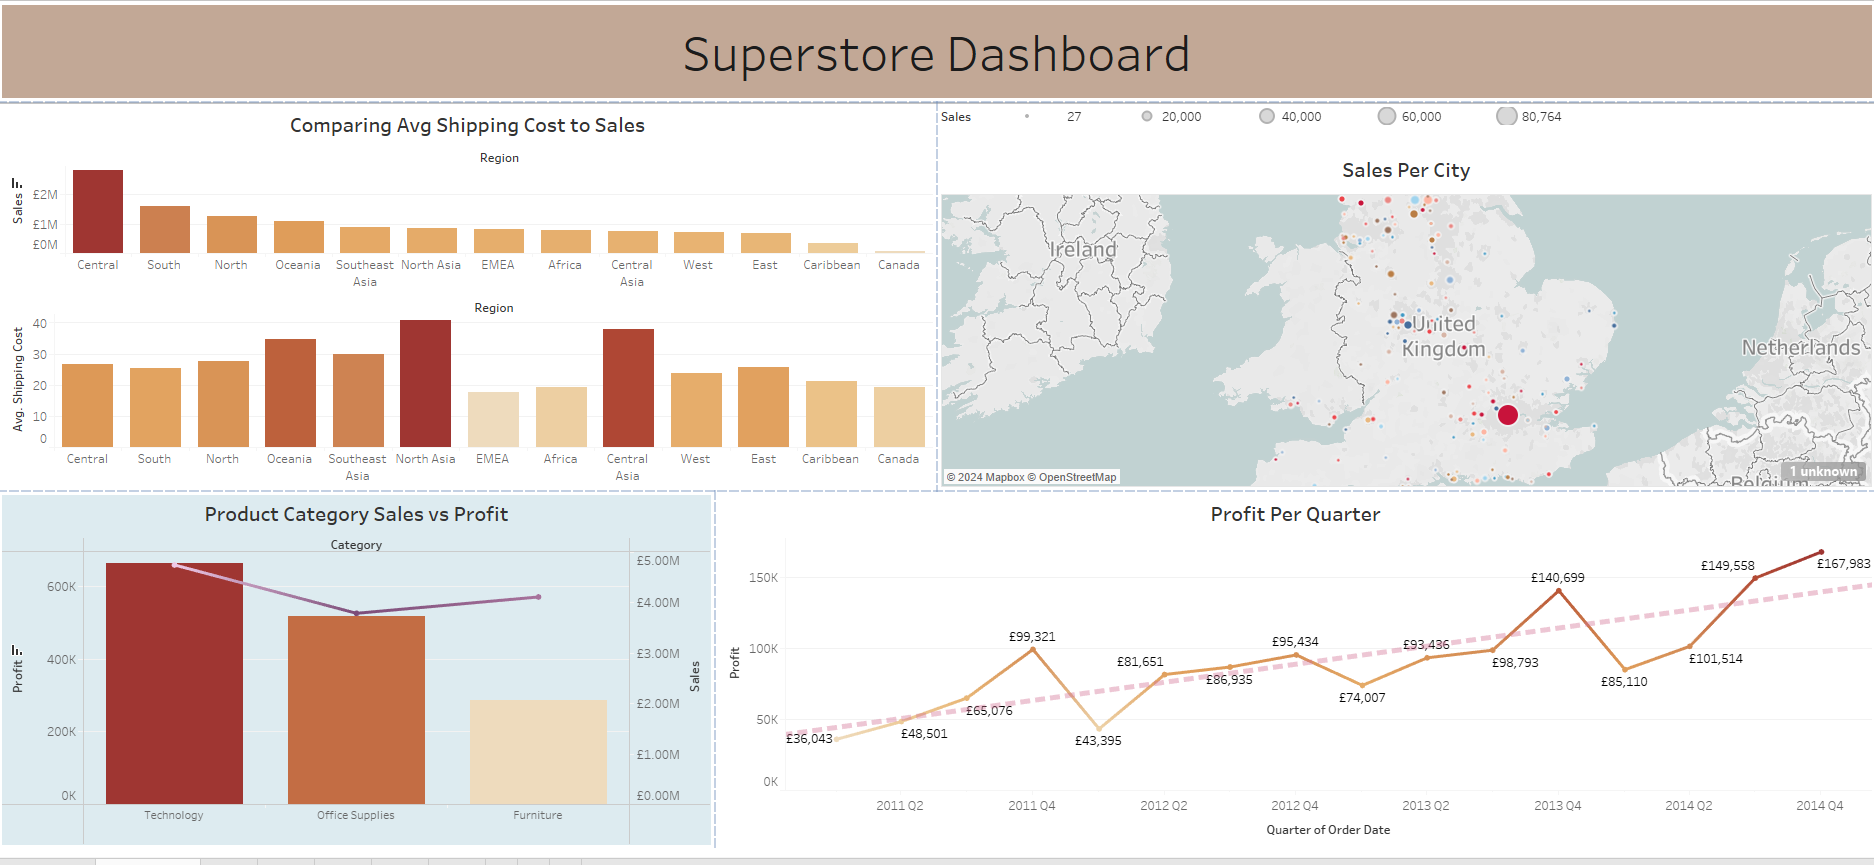

This screenshot's page, from the dashboard's own definition file:
{"tool":"tableau","page":{"name":"Dashboard 1","canvas":[1000,1000],"units":"permille","ordinal":0},"visuals":[{"type":"text","box":[4.7,9.3,990.6,116.9]},{"type":"worksheet","title":"Sheet 1","mark":"Automatic","rows":["Sales"],"cols":["Region"],"box":[4.7,126.2,495,225.7]},{"type":"legend","title":"Sheet 2","param":"[federated.1tq2p7u0dmo0hn14xt75f1w6map1].[sum:Sales:qk]","box":[500,126.2,495.3,52.1]},{"type":"worksheet","title":"Sheet 2","mark":"Automatic","box":[500,178.2,495.3,398.2]},{"type":"worksheet","title":"Sheet 5","mark":"Automatic","rows":["Shipping Cost"],"cols":["Region"],"box":[4.7,351.9,495,224.5]},{"type":"worksheet","title":"Sheet 4","mark":"Line","rows":["Profit","Sales"],"cols":["Category"],"box":[4.7,576.4,378,414.4]},{"type":"worksheet","title":"Sheet 3","mark":"Automatic","rows":["Profit"],"cols":["Order Date"],"box":[382.7,576.4,612.6,414.4]}]}

Visuals, with their boxes on the dashboard's canvas, which has no fixed pixel size, in thousandths of its width and height (x1, y1, x2, y2). These are canvas units, not pixel positions in the 1874x865 screenshot, which may show the page scaled, cropped or inside an application window:
text: Rect(5, 9, 995, 126)
"Sheet 1" worksheet: Rect(5, 126, 500, 352)
"Sheet 2" legend: Rect(500, 126, 995, 178)
"Sheet 2" worksheet: Rect(500, 178, 995, 576)
"Sheet 5" worksheet: Rect(5, 352, 500, 576)
"Sheet 4" worksheet (Line marks): Rect(5, 576, 383, 991)
"Sheet 3" worksheet: Rect(383, 576, 995, 991)
